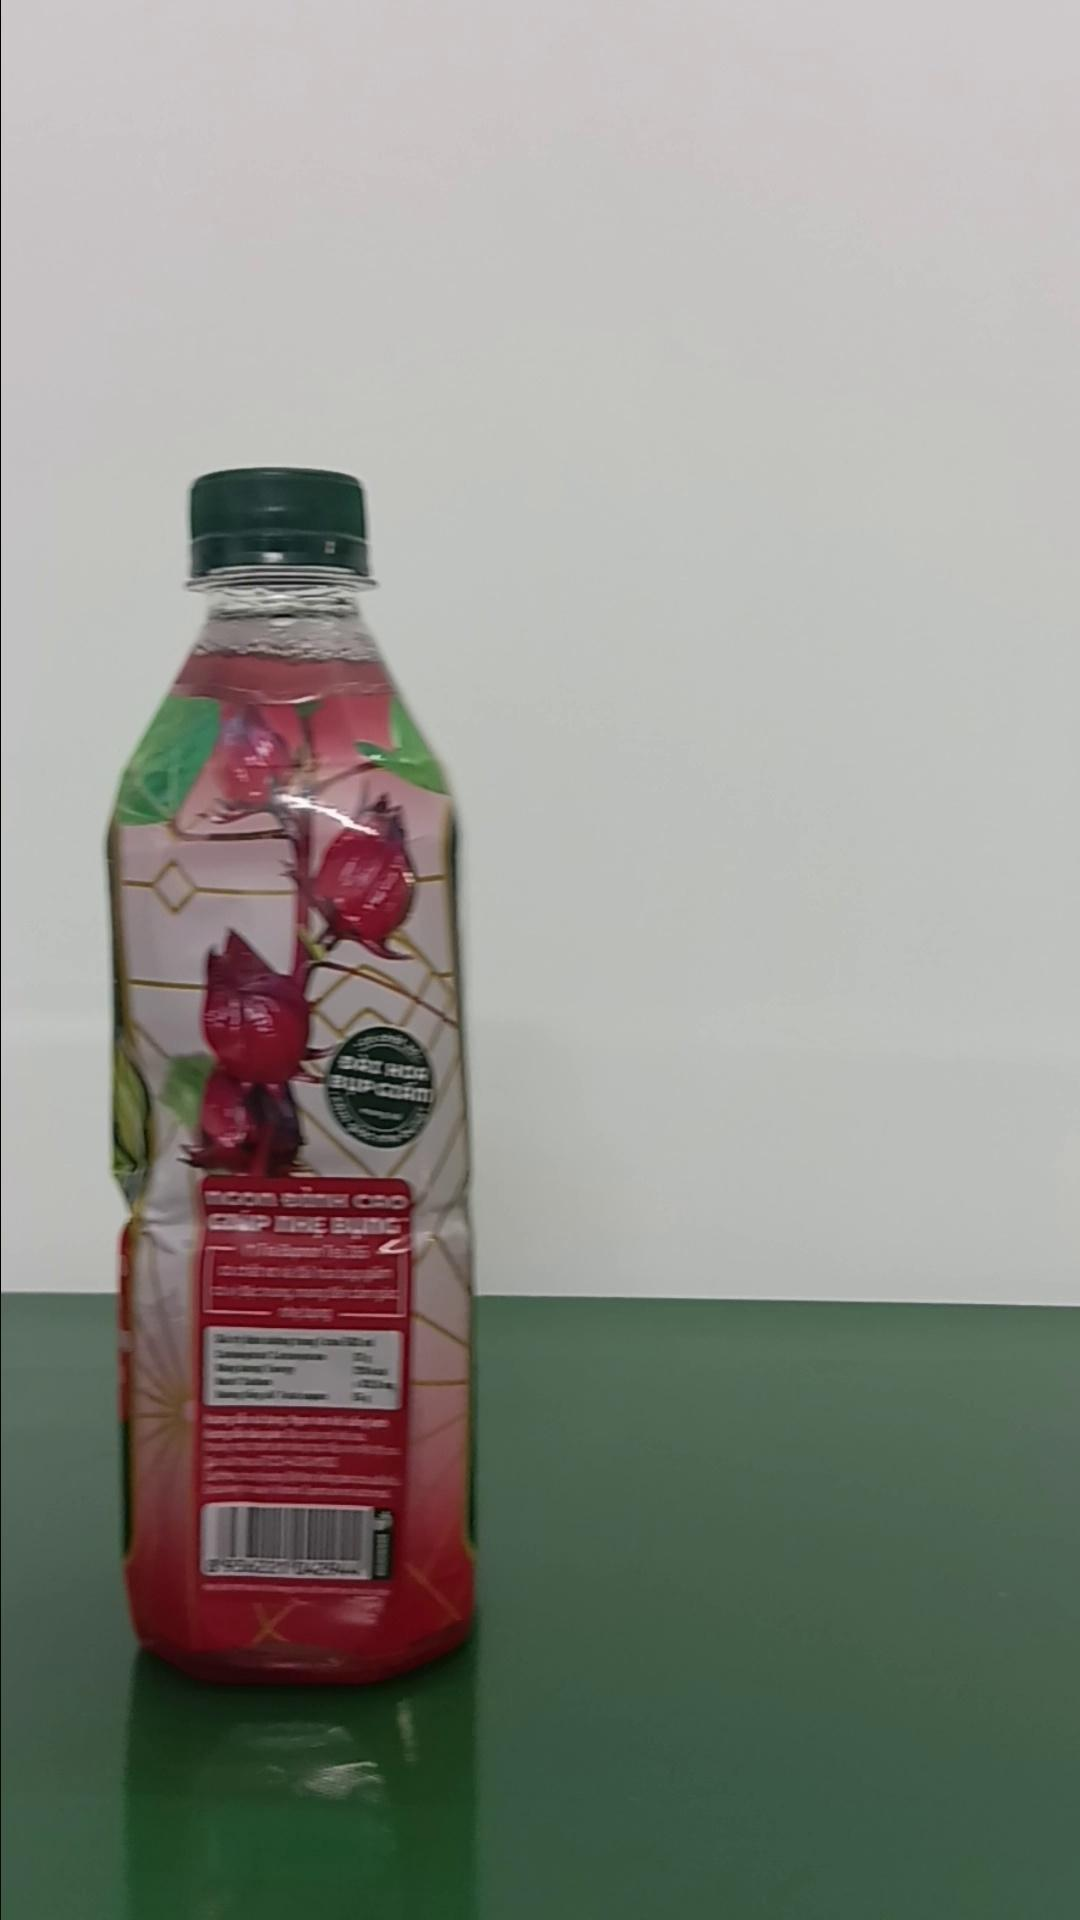loi meo sp: (104, 463, 477, 1687)
